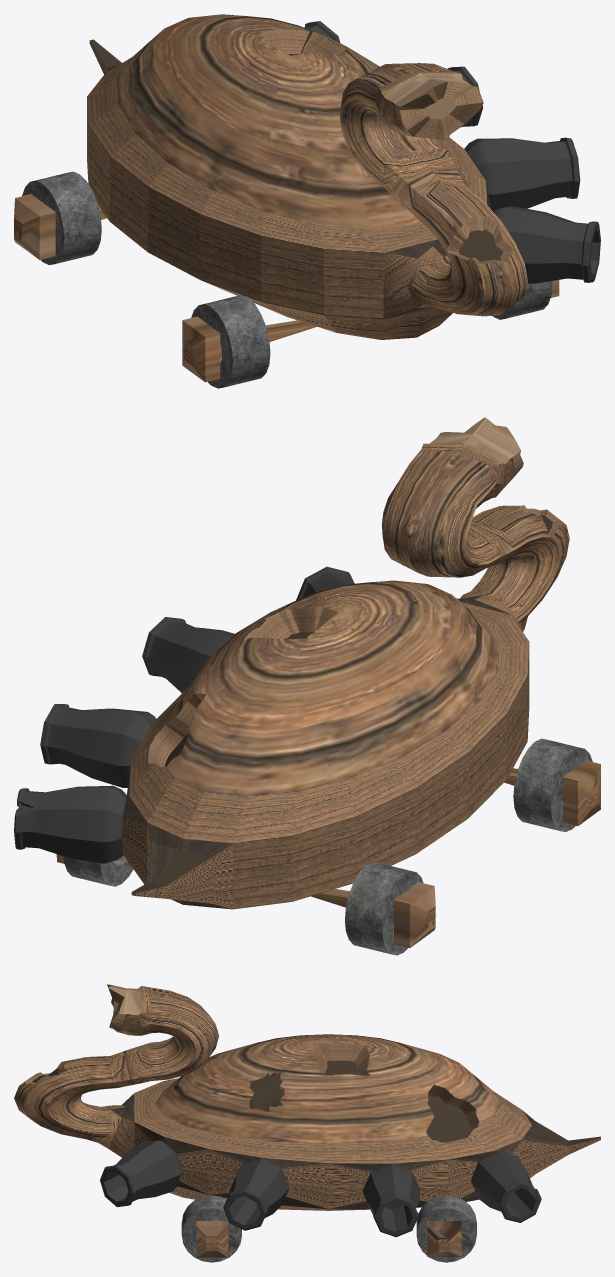
File: damaged turtle 1 textured v4.fbx
3 views of the same model, one above another, from view 1: azimuth 30°, elevation 25°; view 2: azimuth 150°, elevation 25°; view 3: azimuth 270°, elevation 25° (orthographic). The views are drawn at different scales.
Visible parts, largest first — view 1: body1, polySurface8, polySurface17, polySurface19, polySurface14, polySurface15; view 2: body1, polySurface24, polySurface9, polySurface19, polySurface14, polySurface8, polySurface16, polySurface17; view 3: body1, polySurface17, polySurface24, polySurface8, polySurface9, polySurface16, polySurface15.
Boxes of the visible parts, x1,y1,x2,y2 form: body1: (14, 14, 559, 382); polySurface8: (464, 137, 580, 211); polySurface17: (493, 206, 600, 283); polySurface19: (191, 295, 270, 388); polySurface14: (22, 171, 101, 264); polySurface15: (493, 281, 552, 319); body1: (56, 417, 600, 947); polySurface24: (14, 785, 126, 863); polySurface9: (40, 704, 155, 787); polySurface19: (513, 738, 592, 831); polySurface14: (345, 862, 423, 955); polySurface8: (142, 617, 234, 692); polySurface16: (63, 855, 133, 886); polySurface17: (296, 566, 354, 600); body1: (14, 984, 600, 1257); polySurface17: (100, 1140, 182, 1207); polySurface24: (471, 1151, 541, 1222); polySurface8: (223, 1158, 289, 1230); polySurface9: (362, 1163, 420, 1237); polySurface16: (416, 1195, 476, 1262); polySurface15: (181, 1195, 241, 1262).
Size of the model in its own units: 40.65 by 29.59 by 71.03.
Materials: 3 (2 with a texture image).
